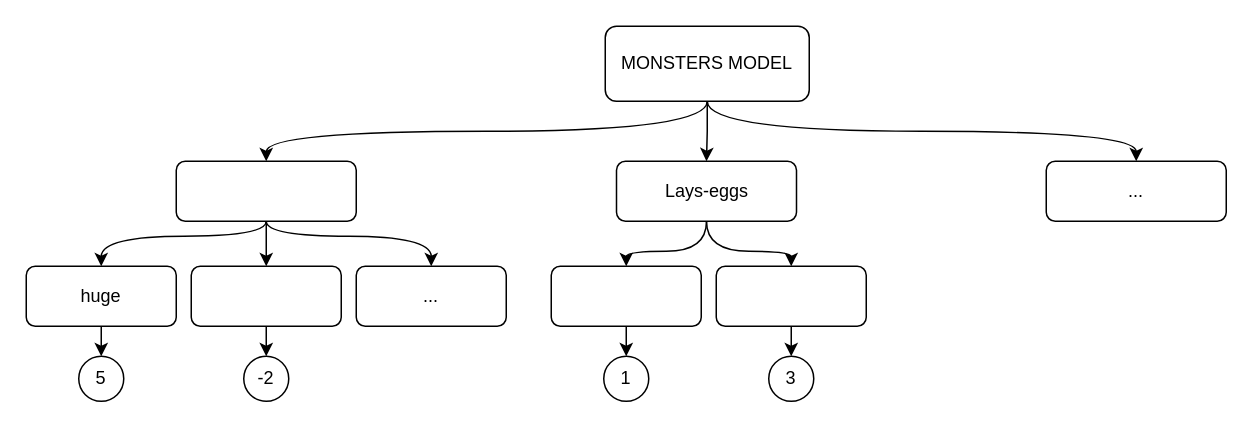
Some shapes in this 1253 by 428 pixel diagram are drawn without their labels. The shapes that lost their labels are listed below. From the top down, each one's box as (x1, y1, x2, y2) in pixels, then its label:
(175, 160, 356, 221): Size
(190, 265, 341, 326): tiny
(550, 265, 701, 326): True
(715, 265, 866, 326): False
